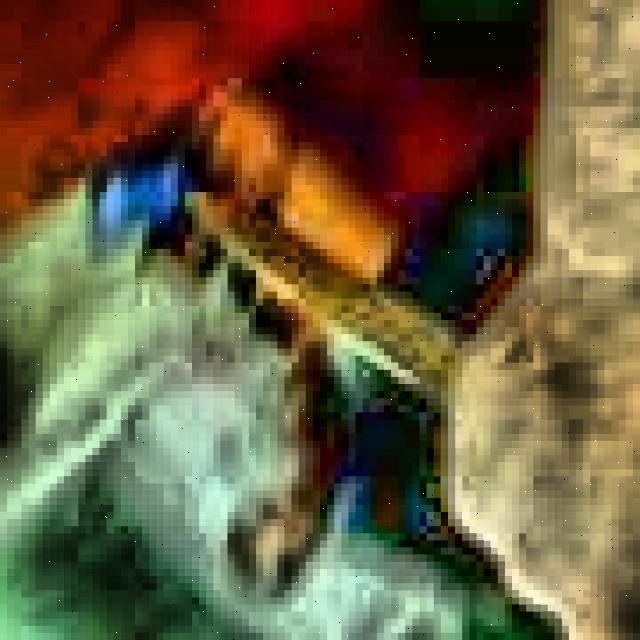knife: (183, 190, 474, 394)
